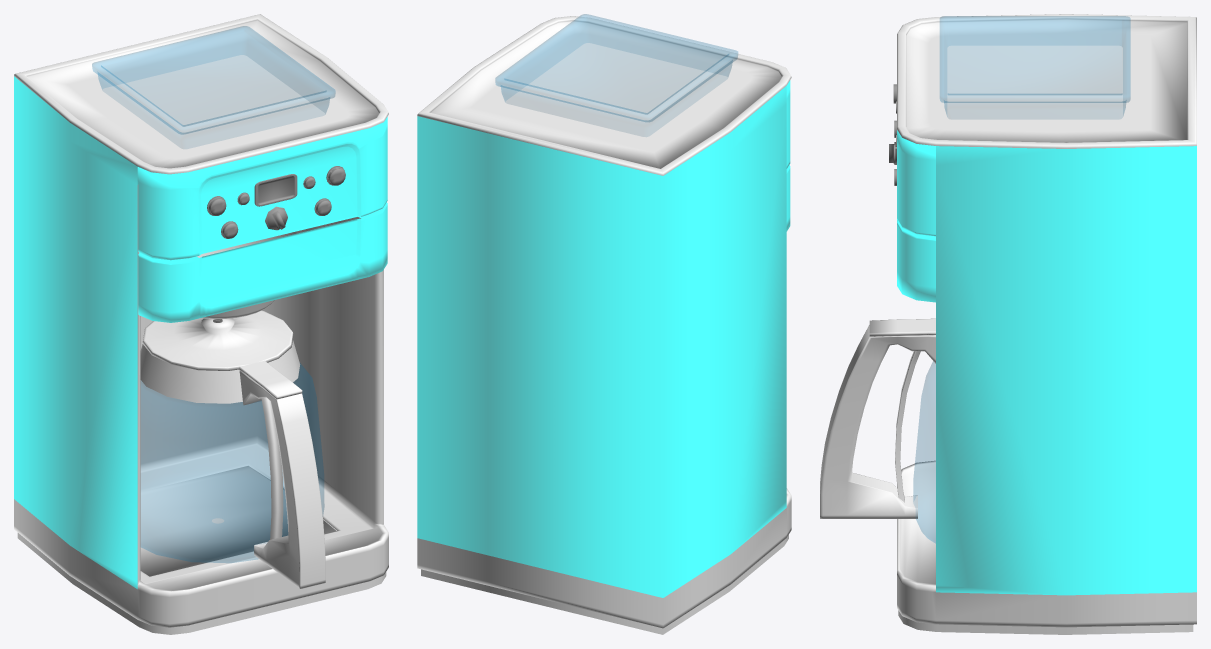
3 views of the same model, side by side, from view 1: azimuth 30°, elevation 25°; view 2: azimuth 150°, elevation 25°; view 3: azimuth 270°, elevation 25° (orthographic). The views are drawn at different scales.
Parts seen in each view (by area): view 1: Cube; view 2: Cube; view 3: Cube.
Boxes of the visible parts, x1=… form: Cube: x1=14, y1=14, x2=388, y2=634; Cube: x1=417, y1=14, x2=791, y2=634; Cube: x1=820, y1=14, x2=1196, y2=634.
Size of the model in its own units: 0.4041 by 0.7281 by 0.4845.
